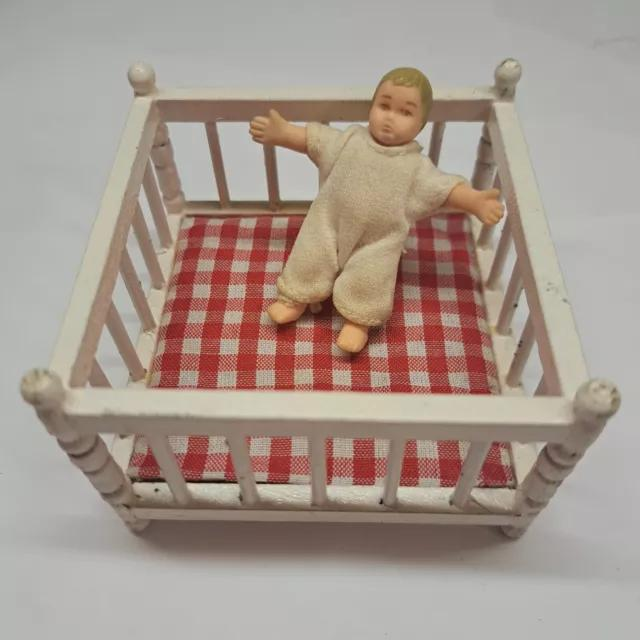baby: (248, 65, 506, 355)
crib: (19, 56, 620, 540)
